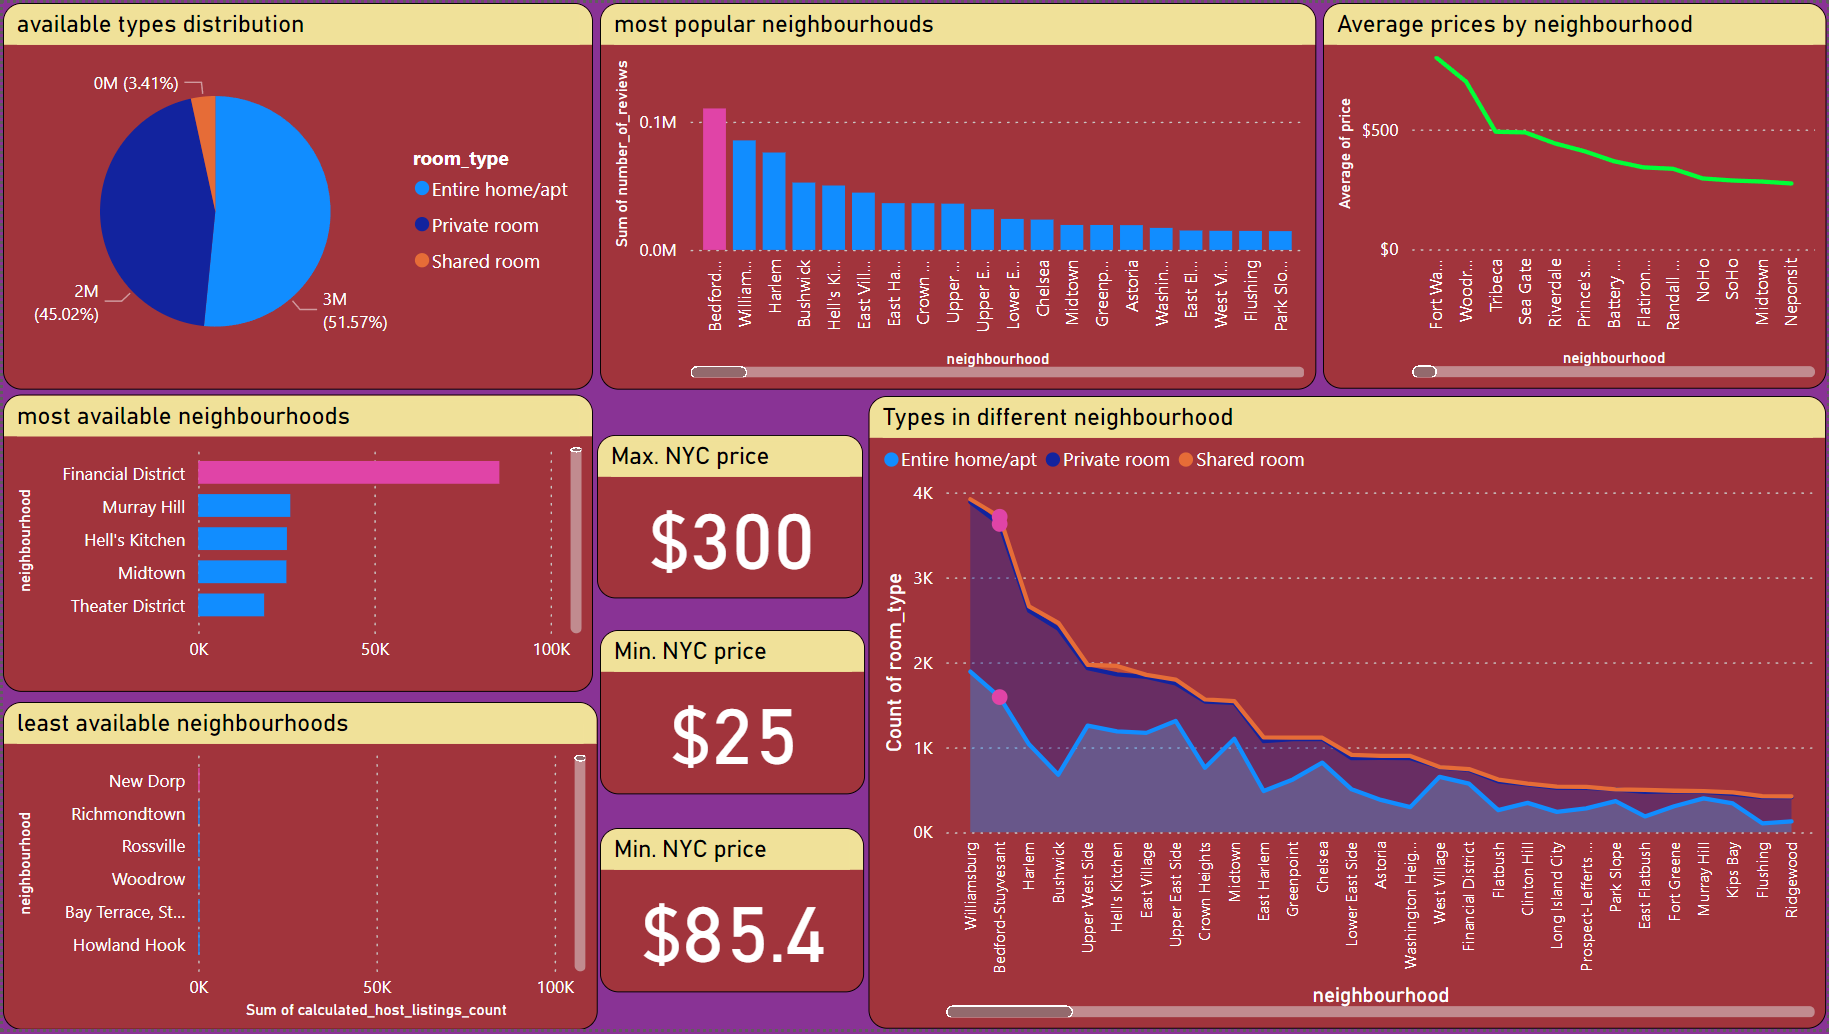

This screenshot's page, from the dashboard's own definition file:
{"tool":"powerbi","page":{"name":"Page 1","canvas":[1280,720],"ordinal":0},"visuals":[{"type":"pieChart","title":"available types distribution","fields":{"Category":["airbnb_NYC.room_type"],"Y":["Sum(airbnb_NYC.availability_365)"]},"box":[0,0,414,271],"z":0},{"type":"barChart","title":"most available neighbourhoods","fields":{"Y":["Sum(airbnb_NYC.calculated_host_listings_count)"],"Category":["airbnb_NYC.neighbourhood"]},"box":[0,274.3,414.3,208.6],"z":1000},{"type":"barChart","title":"least available neighbourhoods","fields":{"Y":["Sum(airbnb_NYC.calculated_host_listings_count)"],"Category":["airbnb_NYC.neighbourhood"]},"box":[0,490,417.1,230],"z":2000},{"type":"card","title":"Max. NYC price","fields":{"Values":["Max(airbnb_NYC.price)"]},"box":[417.3,302.7,186.7,114.7],"z":3000},{"type":"lineChart","title":"Average prices by neighbourhood","fields":{"Y":["Avg(airbnb_NYC.price)"],"Category":["airbnb_NYC.neighbourhood"]},"box":[925.8,0,353.3,270.8],"z":4000},{"type":"columnChart","title":"most popular neighbourhouds","fields":{"Y":["Sum(airbnb_NYC.number_of_reviews)"],"Category":["airbnb_NYC.neighbourhood"]},"box":[418.8,0,502.5,271.2],"z":5000},{"type":"card","title":"Min. NYC price","fields":{"Values":["Min(airbnb_NYC.price)"]},"box":[418.8,440,186.2,115],"z":6000},{"type":"card","title":"Min. NYC price","fields":{"Values":["Avg(airbnb_NYC.price)"]},"box":[418.8,578.8,185,115],"z":7000},{"type":"stackedAreaChart","title":"Types in different neighbourhood","fields":{"Y":["CountNonNull(airbnb_NYC.room_type)"],"Category":["airbnb_NYC.neighbourhood"],"Series":["airbnb_NYC.room_type"]},"box":[607.8,275.8,672.2,444.2],"z":7001}]}

Visuals, with their boxes in screenshot pixels (x1, y1, x2, y2), scaled from the page's 1280x720 canvas onto the 1829x1034 screenshot:
"available types distribution" pieChart: x1=0 y1=0 x2=592 y2=389
"most available neighbourhoods" barChart: x1=0 y1=394 x2=592 y2=693
"least available neighbourhoods" barChart: x1=0 y1=704 x2=596 y2=1033
"Max. NYC price" card: x1=596 y1=435 x2=863 y2=599
"Average prices by neighbourhood" lineChart: x1=1323 y1=0 x2=1828 y2=389
"most popular neighbourhouds" columnChart: x1=598 y1=0 x2=1316 y2=389
"Min. NYC price" card: x1=598 y1=632 x2=864 y2=797
"Min. NYC price" card: x1=598 y1=831 x2=863 y2=996
"Types in different neighbourhood" stackedAreaChart: x1=868 y1=396 x2=1828 y2=1033
